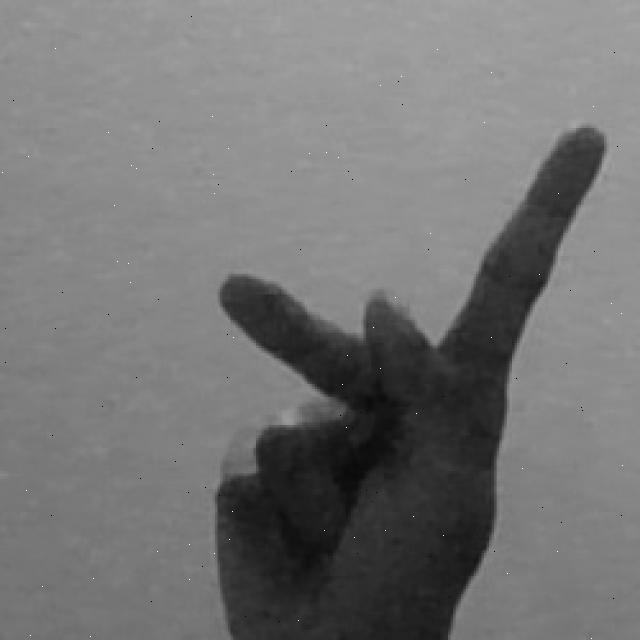K: (211, 120, 608, 640)
